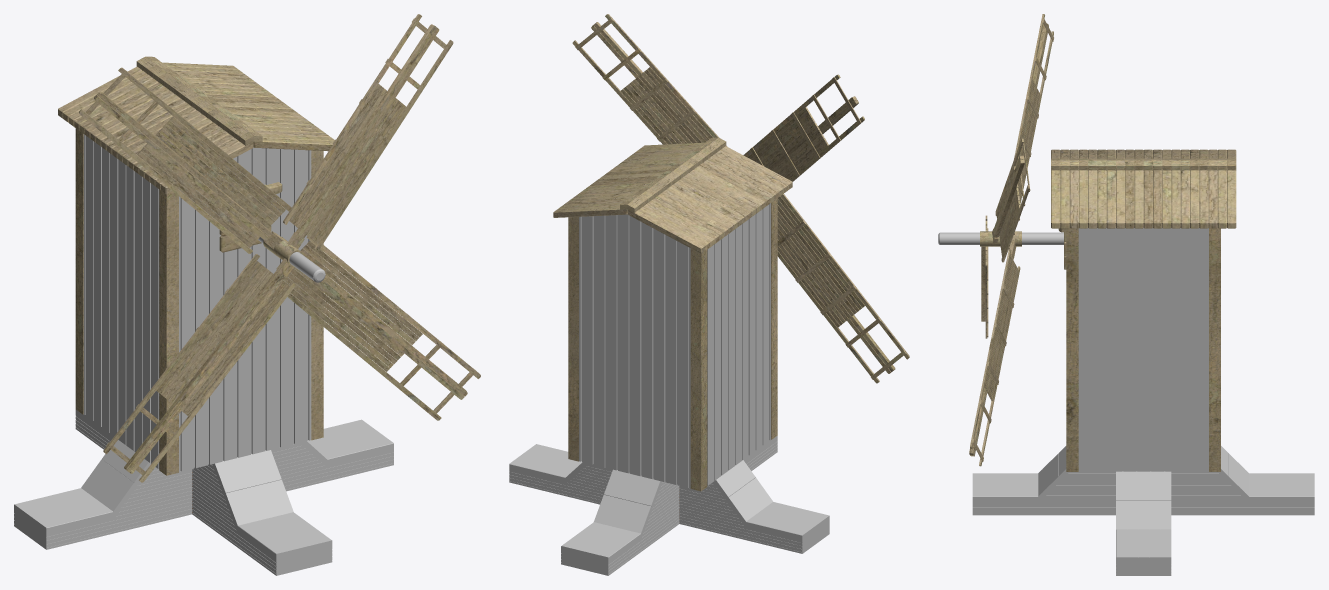
The model's file is Windmill.gltf.
3 views of the same model, side by side, from view 1: azimuth 30°, elevation 25°; view 2: azimuth 150°, elevation 25°; view 3: azimuth 270°, elevation 25° (orthographic). The views are drawn at different scales.
Visible parts, largest first — view 1: Cube, Cube.016, Cube.004, Cube.021, Cube.017, Cube.020, Cube.022, Cube.019, Cube.005, Cube.018, Cube.007, Cube.008 (+3 smaller); view 2: Cube, Cube.004, Cube.016, Cube.005, Cube.022, Cube.017, Cube.019, Cube.021, Cube.018, Cube.008, Cube.007, Cube.006; view 3: Cube, Cube.004, Cube.016, Cube.022, Cube.005, Cube.018, Cube.020, Cube.007, Cube.021, Cube.019, Cube.008, Cube.006 (+2 smaller).
Boxes of the visible parts, left/top/right/bottom form: Cube: left=83, top=134, right=311, bottom=472; Cube.016: left=14, top=415, right=393, bottom=555; Cube.004: left=58, top=62, right=334, bottom=194; Cube.021: left=79, top=67, right=291, bottom=253; Cube.017: left=103, top=254, right=295, bottom=482; Cube.020: left=282, top=236, right=480, bottom=420; Cube.022: left=46, top=415, right=393, bottom=575; Cube.019: left=283, top=14, right=453, bottom=250; Cube.005: left=75, top=128, right=323, bottom=475; Cube.018: left=14, top=416, right=393, bottom=575; Cube.007: left=136, top=56, right=262, bottom=145; Cube.008: left=14, top=409, right=393, bottom=561; Cube: left=579, top=203, right=770, bottom=488; Cube.004: left=553, top=142, right=792, bottom=253; Cube.016: left=509, top=440, right=829, bottom=558; Cube.005: left=568, top=198, right=777, bottom=491; Cube.022: left=509, top=440, right=802, bottom=575; Cube.017: left=777, top=194, right=909, bottom=383; Cube.019: left=572, top=14, right=727, bottom=146; Cube.021: left=743, top=74, right=864, bottom=181; Cube.018: left=509, top=441, right=829, bottom=575; Cube.008: left=509, top=436, right=829, bottom=563; Cube.007: left=620, top=137, right=726, bottom=212; Cube.006: left=515, top=448, right=823, bottom=554; Cube: left=1078, top=228, right=1208, bottom=471; Cube.004: left=1051, top=149, right=1236, bottom=228; Cube.016: left=972, top=446, right=1314, bottom=558; Cube.022: left=972, top=471, right=1314, bottom=515; Cube.005: left=1066, top=228, right=1220, bottom=471; Cube.018: left=972, top=473, right=1314, bottom=575; Cube.020: left=969, top=237, right=1020, bottom=466; Cube.007: left=1051, top=158, right=1236, bottom=170; Cube.021: left=1014, top=14, right=1053, bottom=203; Cube.019: left=992, top=138, right=1030, bottom=262; Cube.008: left=972, top=471, right=1314, bottom=563; Cube.006: left=973, top=453, right=1314, bottom=557.
Bounding box in the file's own units: 30.01 × 38.73 × 30.7.
